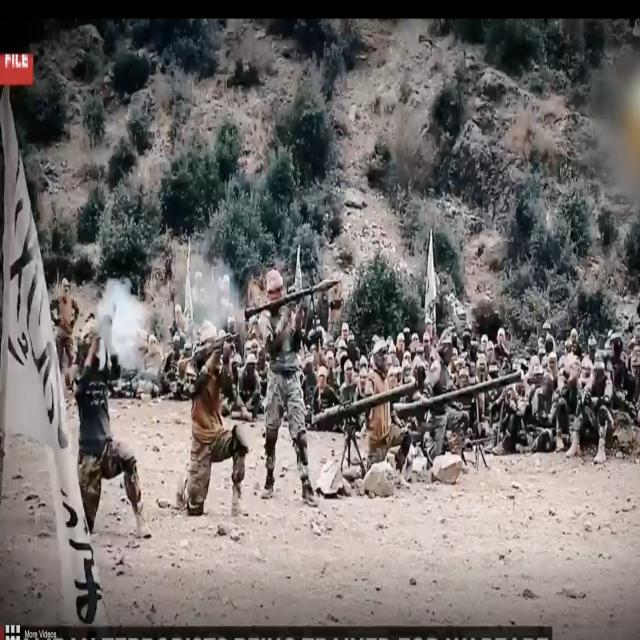bazooka: (404, 324, 539, 471), (297, 349, 433, 457), (230, 250, 357, 355)
